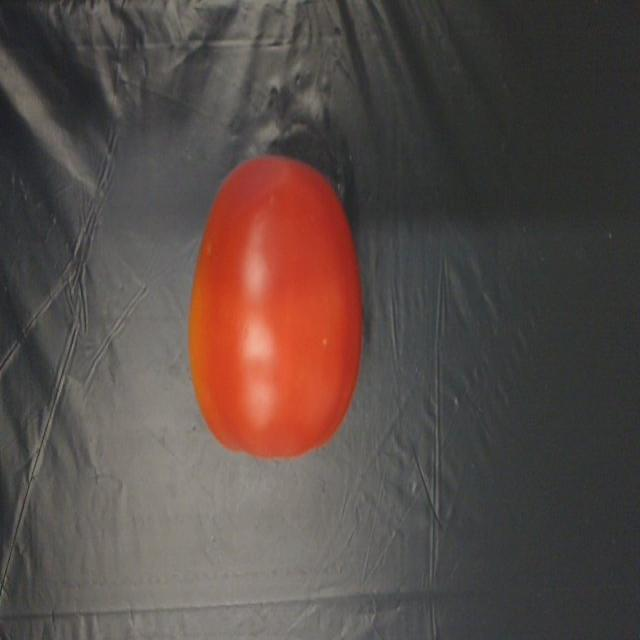kirmizi: (160, 143, 377, 474)
